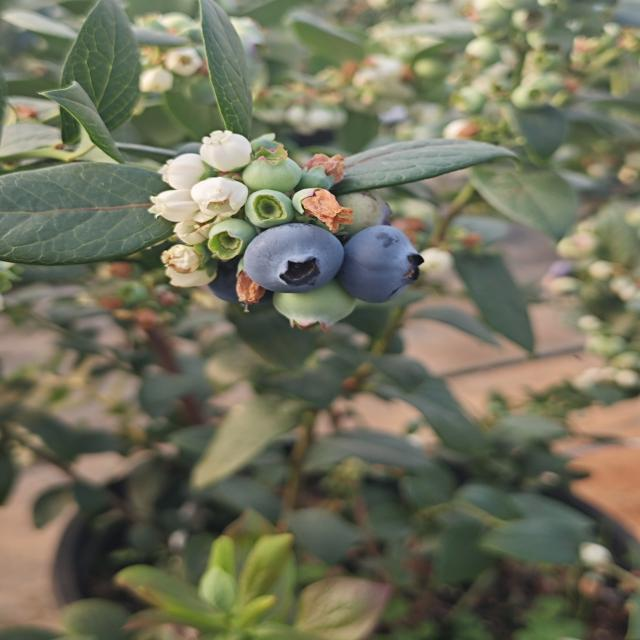ripe: (234, 222, 354, 297), (337, 232, 432, 304)
